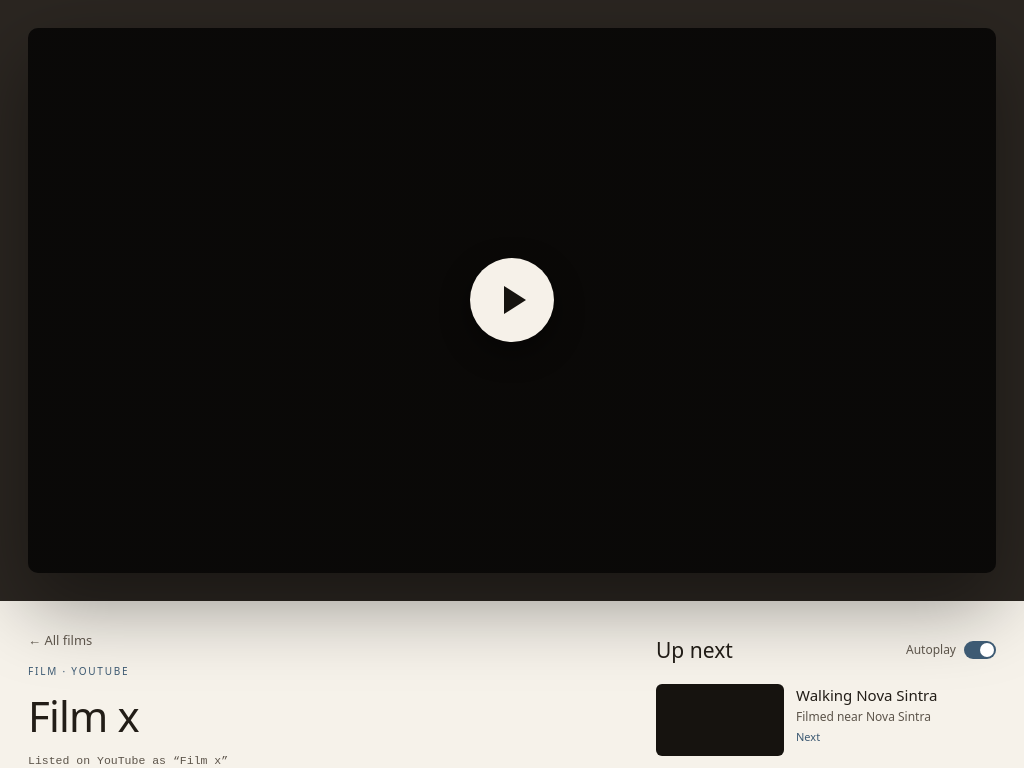
Scenario: FilmTheatre › offers the host when it refuses the embed
The image size is (1024, 768).
Click the button named "Play" at (512, 300), box [470,258,554,342]
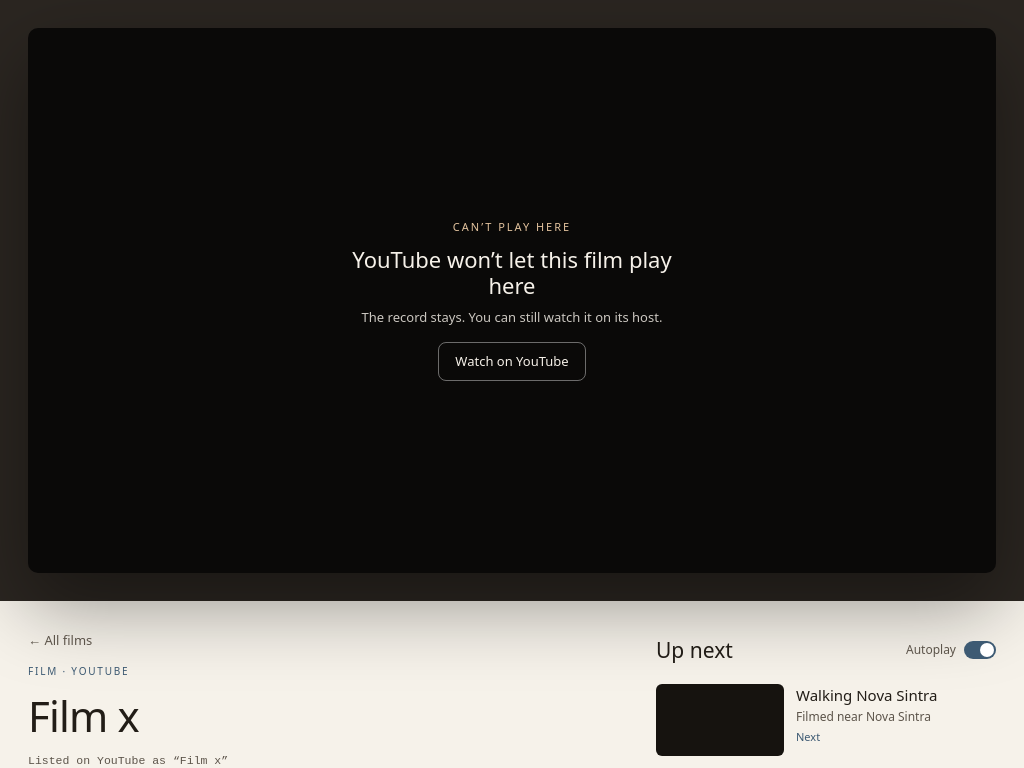
Expected: the link "Watch on YouTube" is shown, [438,342,586,381]
